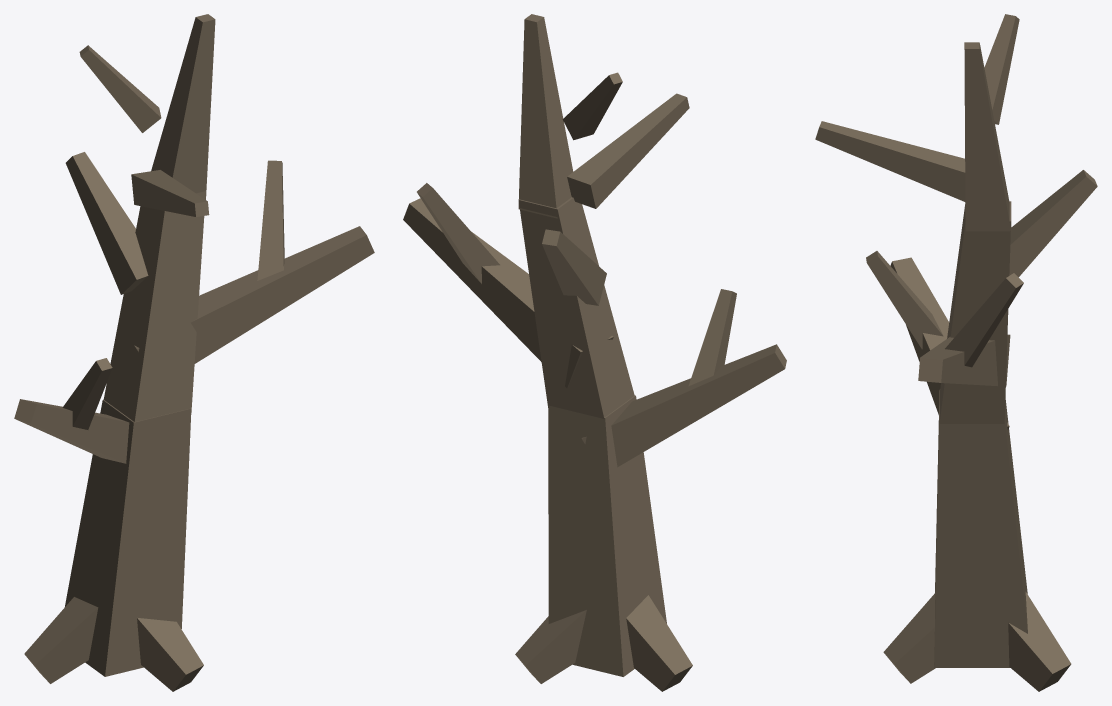
File: tree_dead.glb
3 renders of one model, left to right at view 1: azimuth 30°, elevation 25°; view 2: azimuth 150°, elevation 25°; view 3: azimuth 270°, elevation 25°, orthographic. The views are drawn at different scales.
Visible parts, largest first — view 1: bole0, bole1, branch.001, bole2, branch.002, root.001, branch, root.002, twig.001, branch.003, branch.004, twig; view 2: bole0, bole1, bole2, branch, branch.001, branch.003, root.001, root, branch.002, twig.001, twig, branch.004; view 3: bole0, bole1, bole2, branch.003, branch.002, root, branch.001, root.002, twig.001, twig, branch, branch.004.
Boxes of the visible parts, x1=… form: bole0: x1=65, y1=399, x2=191, y2=676; bole1: x1=103, y1=191, x2=205, y2=422; branch.001: x1=134, y1=226, x2=374, y2=363; bole2: x1=151, y1=14, x2=215, y2=199; branch.002: x1=65, y1=152, x2=148, y2=294; root.001: x1=24, y1=597, x2=98, y2=683; branch: x1=14, y1=399, x2=129, y2=463; root.002: x1=137, y1=618, x2=203, y2=691; twig.001: x1=257, y1=160, x2=284, y2=280; branch.003: x1=131, y1=170, x2=209, y2=216; branch.004: x1=79, y1=45, x2=161, y2=132; twig: x1=62, y1=358, x2=112, y2=429; bole0: x1=548, y1=395, x2=666, y2=676; bole1: x1=518, y1=197, x2=634, y2=418; bole2: x1=518, y1=14, x2=573, y2=218; branch: x1=581, y1=344, x2=786, y2=467; branch.001: x1=403, y1=198, x2=613, y2=388; branch.003: x1=567, y1=93, x2=689, y2=208; root.001: x1=626, y1=595, x2=692, y2=691; root: x1=515, y1=610, x2=586, y2=683; branch.002: x1=542, y1=229, x2=606, y2=305; twig.001: x1=417, y1=183, x2=499, y2=283; twig: x1=688, y1=289, x2=736, y2=386; branch.004: x1=562, y1=72, x2=622, y2=140; bole0: x1=934, y1=390, x2=1027, y2=667; bole1: x1=939, y1=201, x2=1011, y2=423; bole2: x1=964, y1=42, x2=1011, y2=231; branch.003: x1=815, y1=121, x2=965, y2=201; branch.002: x1=1009, y1=170, x2=1097, y2=277; root: x1=1008, y1=592, x2=1071, y2=691; branch.001: x1=918, y1=334, x2=1010, y2=386; root.002: x1=883, y1=593, x2=935, y2=683; twig.001: x1=945, y1=273, x2=1023, y2=367; twig: x1=866, y1=251, x2=943, y2=349; branch: x1=890, y1=257, x2=1009, y2=429; branch.004: x1=984, y1=14, x2=1019, y2=124.
Size of the model in its own units: 41.14 by 67.14 by 26.02.
